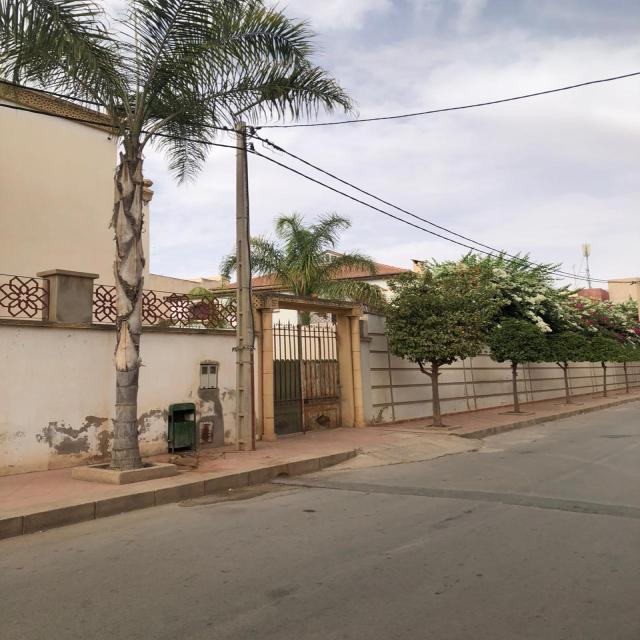Electric pole: (235, 120, 255, 451)
Tree: (1, 0, 351, 470)
